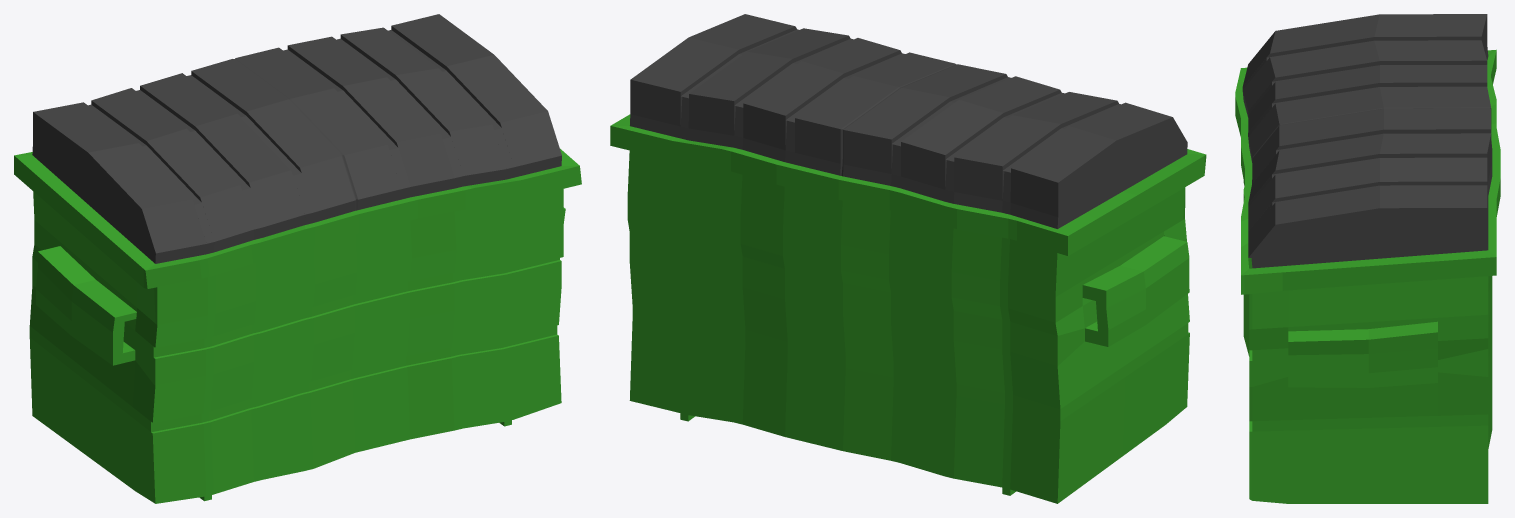
File: Dumpster.fbx
3 renders of one model, left to right at view 1: azimuth 30°, elevation 25°; view 2: azimuth 150°, elevation 25°; view 3: azimuth 270°, elevation 25°, orthographic. The views are drawn at different scales.
Parts seen in each view (by area): view 1: Cube.255; view 2: Cube.255; view 3: Cube.255.
Part boxes in pixels (x1=…): Cube.255: x1=14, y1=14, x2=581, y2=503; Cube.255: x1=610, y1=14, x2=1206, y2=503; Cube.255: x1=1235, y1=14, x2=1500, y2=503.
Size of the model in its own units: 425 by 282 by 222.
